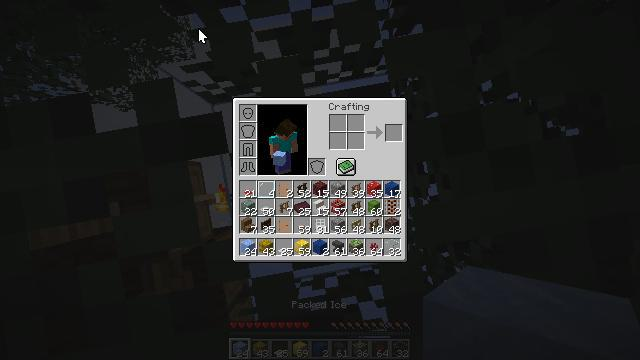cursor: (28, 198, 44, 208)
